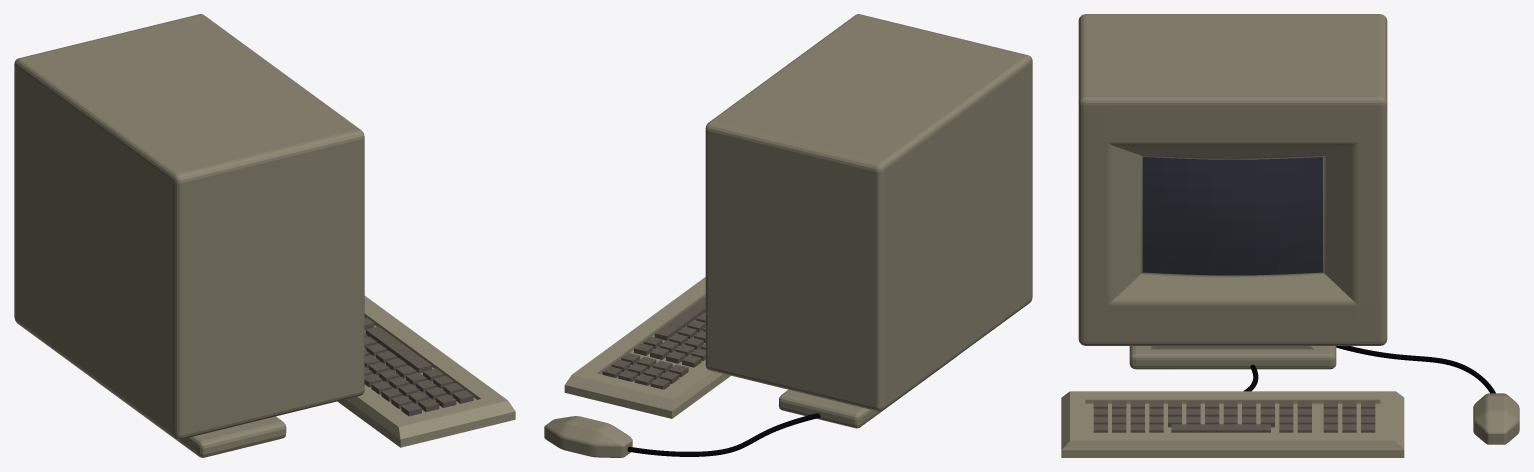
The model's file is computerv2.fbx.
3 renders of one model, left to right at view 1: azimuth 30°, elevation 25°; view 2: azimuth 150°, elevation 25°; view 3: azimuth 270°, elevation 25°, orthographic. The views are drawn at different scales.
Parts seen in each view (by area): view 1: Cube, Cube.001, Cube.003; view 2: Cube, Cube.001, Cube.003, Cube.002, NurbsPath.001; view 3: Cube, Cube.001, Cube.003, Cube.002, NurbsPath.001.
Part boxes in pixels (left/top/right/bottom): Cube: left=14, top=14, right=364, bottom=457; Cube.001: left=337, top=296, right=515, bottom=447; Cube.003: left=364, top=317, right=473, bottom=416; Cube: left=705, top=14, right=1032, bottom=428; Cube.001: left=564, top=277, right=730, bottom=418; Cube.003: left=602, top=297, right=705, bottom=389; Cube.002: left=544, top=416, right=632, bottom=457; NurbsPath.001: left=627, top=413, right=820, bottom=456; Cube: left=1078, top=14, right=1387, bottom=369; Cube.001: left=1061, top=391, right=1404, bottom=457; Cube.003: left=1093, top=401, right=1375, bottom=432; Cube.002: left=1473, top=393, right=1519, bottom=444; NurbsPath.001: left=1336, top=346, right=1495, bottom=393.
Bounding box in the file's own units: 208 × 193 × 267.
